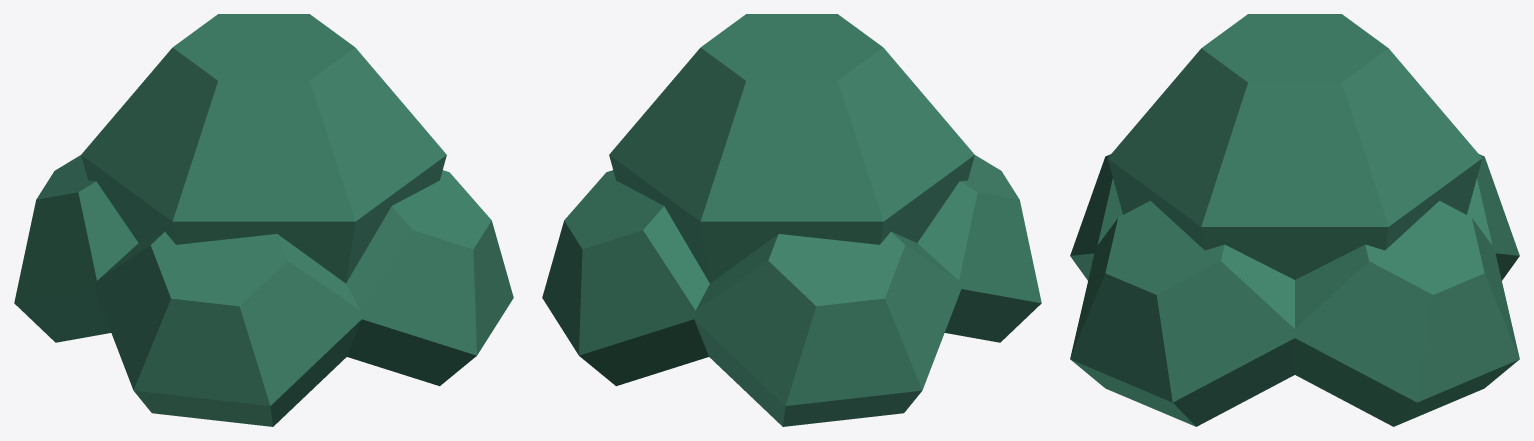
The model's file is broccoliHead.obj.
The picture shows the model from 3 angles, left to right: view 1: azimuth 30°, elevation 25°; view 2: azimuth 150°, elevation 25°; view 3: azimuth 270°, elevation 25°; orthographic projection. The views are drawn at different scales.
Parts seen in each view (by area): view 1: broccoli; view 2: broccoli; view 3: broccoli.
Boxes of the visible parts, x1,y1,x2,y2 form: broccoli: (14,14,513,426); broccoli: (542,14,1041,426); broccoli: (1070,14,1519,426).
Size of the model in its own units: 0.3752 by 0.2748 by 0.3752.
